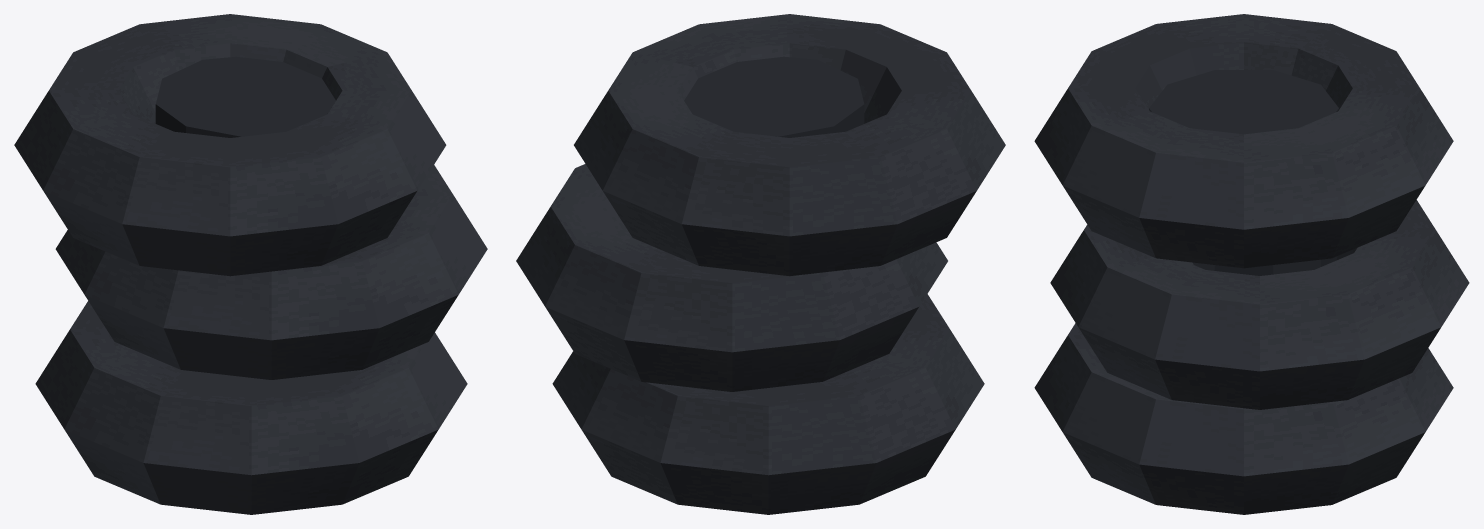
Rendered from prop_tyres.glb.
3 views of the same model, side by side, from view 1: azimuth 30°, elevation 25°; view 2: azimuth 150°, elevation 25°; view 3: azimuth 270°, elevation 25° (orthographic). The views are drawn at different scales.
Visible parts, largest first — view 1: prop_tyres; view 2: prop_tyres; view 3: prop_tyres.
Part boxes in pixels (x1,y1,x2,y2): prop_tyres: (14, 14, 487, 514); prop_tyres: (516, 14, 1005, 514); prop_tyres: (1034, 14, 1469, 514).
Size of the model in its own units: 1.2 by 0.9544 by 1.1.
1 material, 1 textured.
